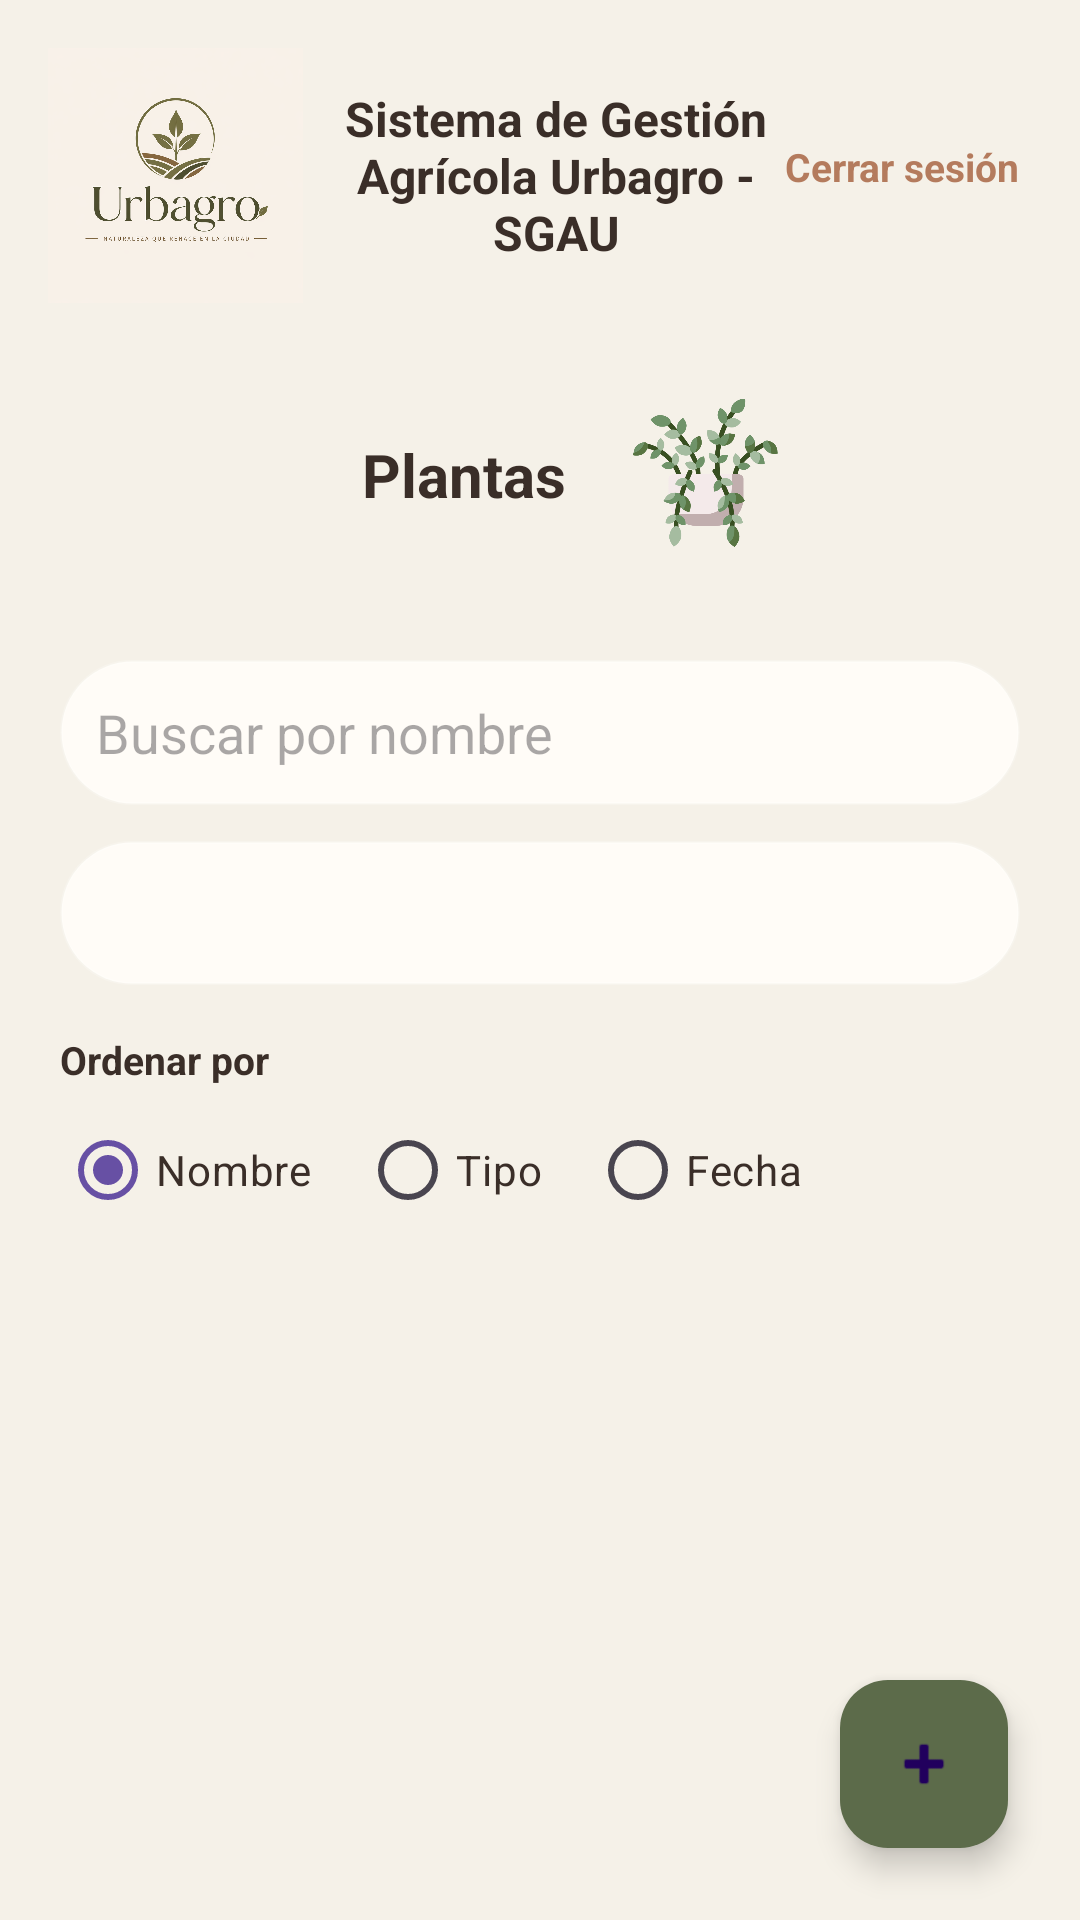

Point at icon controls on the screen. Image size 1080px×1920px, points as (x=x, y=y).
Agregar planta: (x=924, y=1764)
helecho: (x=705, y=473)
